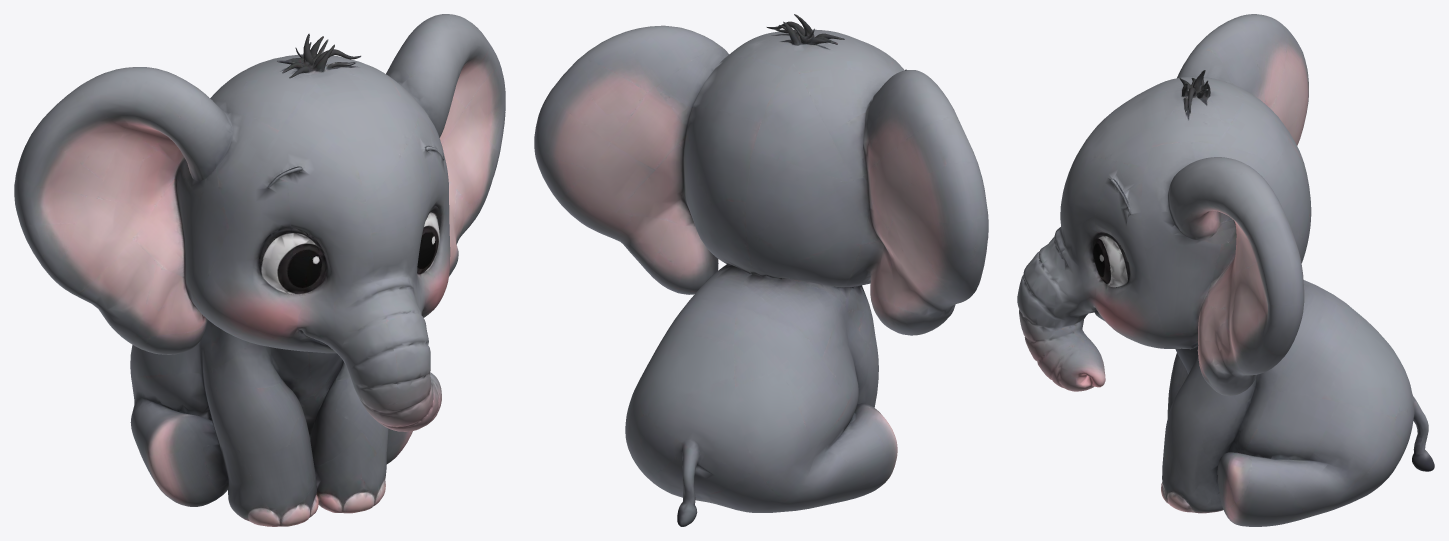
The model's file is elephant-a.glb.
3 views of the same model, side by side, from view 1: azimuth 30°, elevation 25°; view 2: azimuth 150°, elevation 25°; view 3: azimuth 270°, elevation 25° (orthographic). The views are drawn at different scales.
Size of the model in its own units: 1.9 by 1.77 by 1.61.
Materials: 1 (1 with a texture image).
